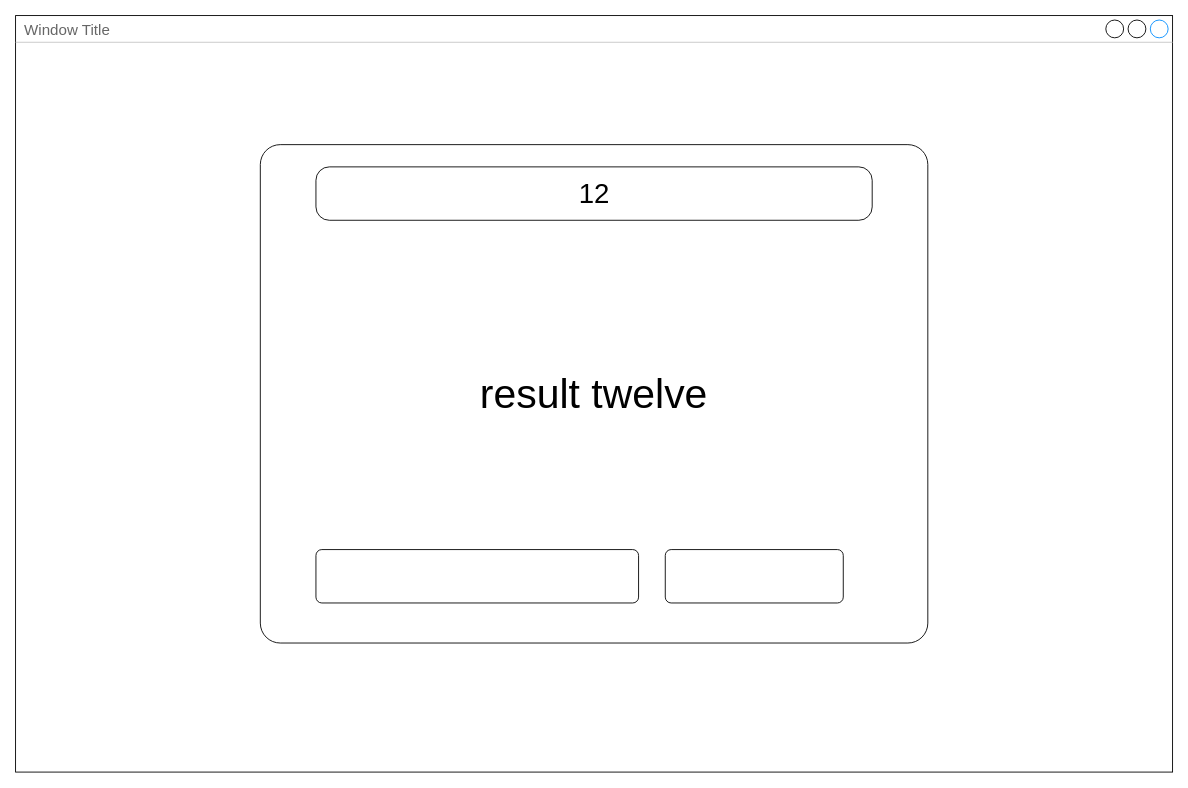
This 1188x788 diagram has some shape labels left out. Each missing label, with the centre of its shape:
"Read (song)" goes at (477,576).
"Translate" goes at (753,576).
